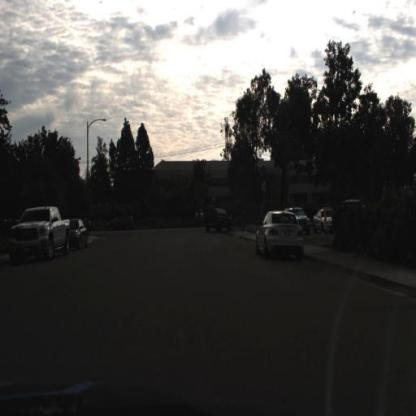car: (8, 205, 71, 265), (254, 210, 305, 261), (256, 210, 307, 256), (66, 214, 92, 255), (205, 206, 236, 240), (68, 217, 91, 254), (312, 208, 338, 239), (104, 211, 137, 234), (111, 211, 141, 233), (83, 212, 102, 235)
